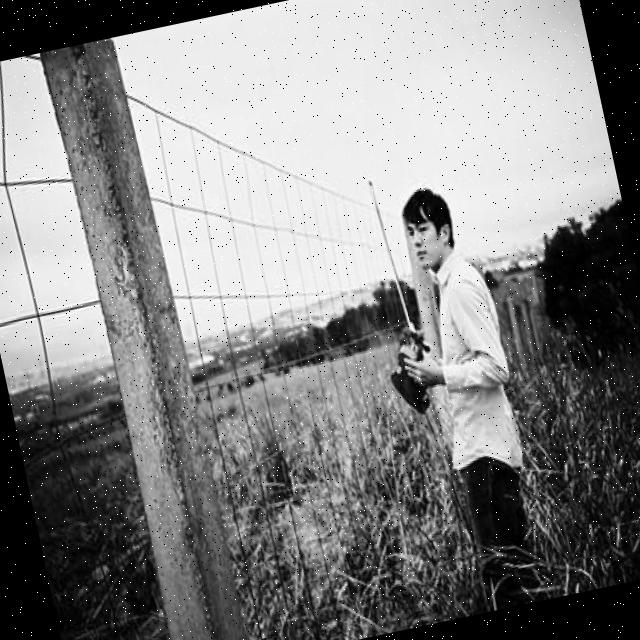violin: (379, 324, 446, 422)
